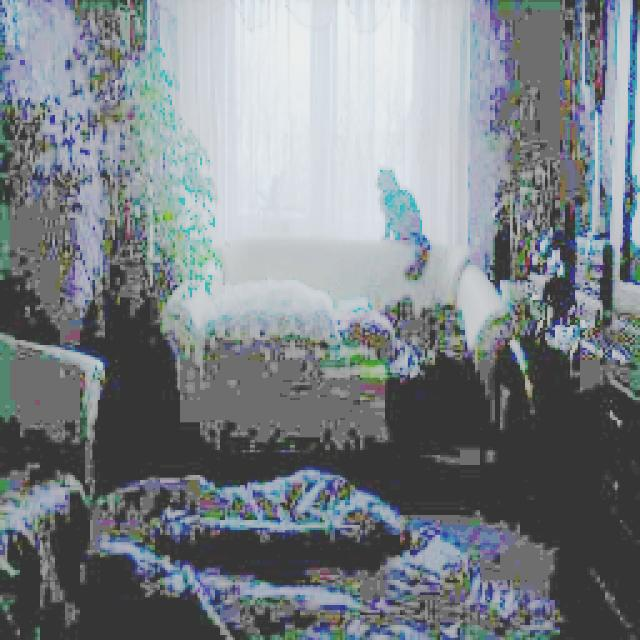cat: (363, 164, 440, 278)
